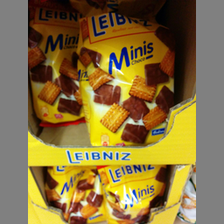chocolate: (76, 11, 175, 147), (28, 6, 85, 127), (97, 165, 169, 224), (43, 167, 106, 224)
